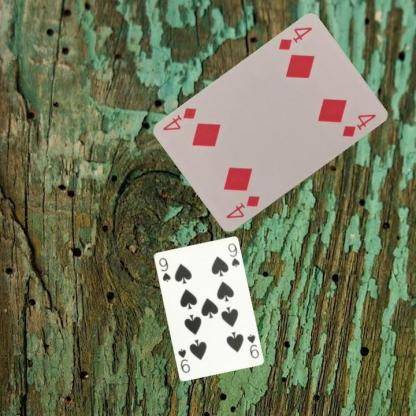4d: (223, 193, 261, 221), (276, 24, 313, 52)
9s: (244, 331, 260, 359), (156, 255, 172, 282)
